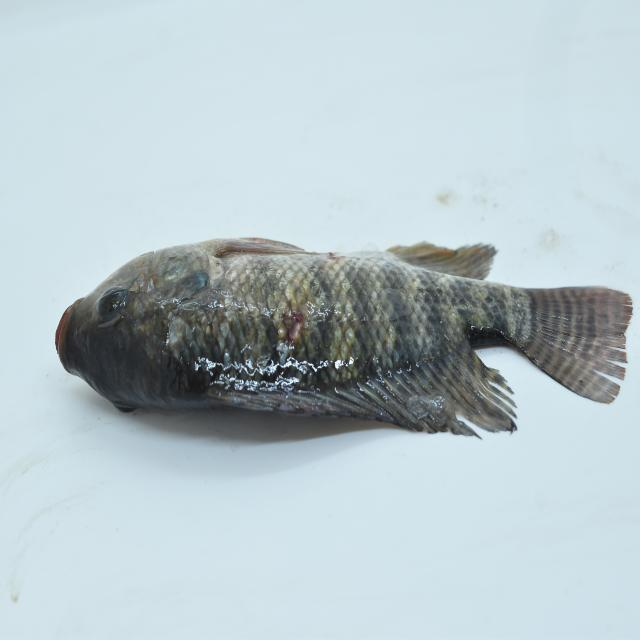Columnaris Disease: (48, 240, 629, 457)
